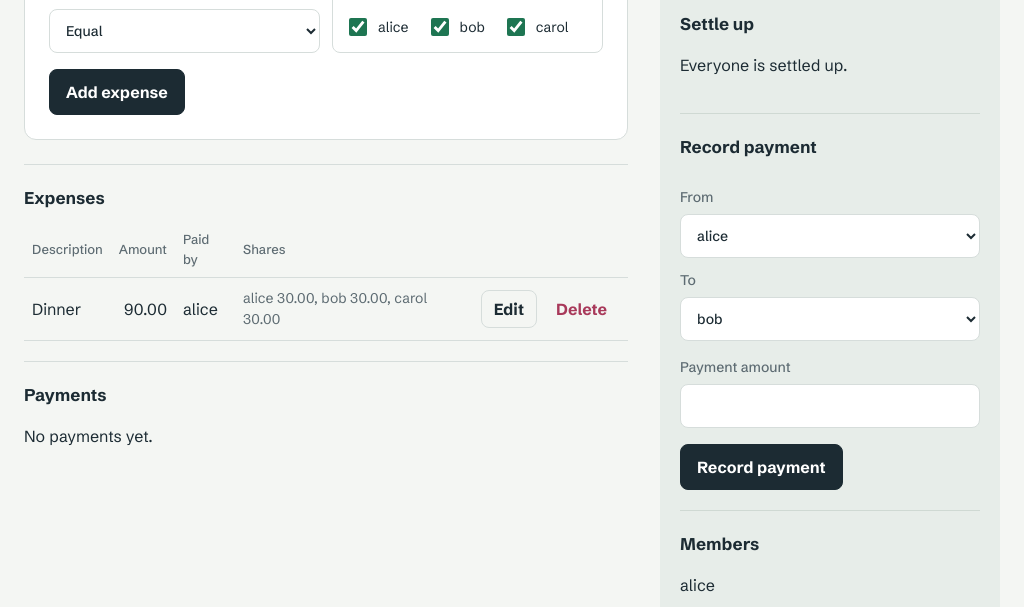
Test case: Expenses › edit loads the expense and sends PUT
(page scrolled)
Click the button "Edit". click: x=509, y=309
box: [481, 290, 537, 328]
(page scrolled)
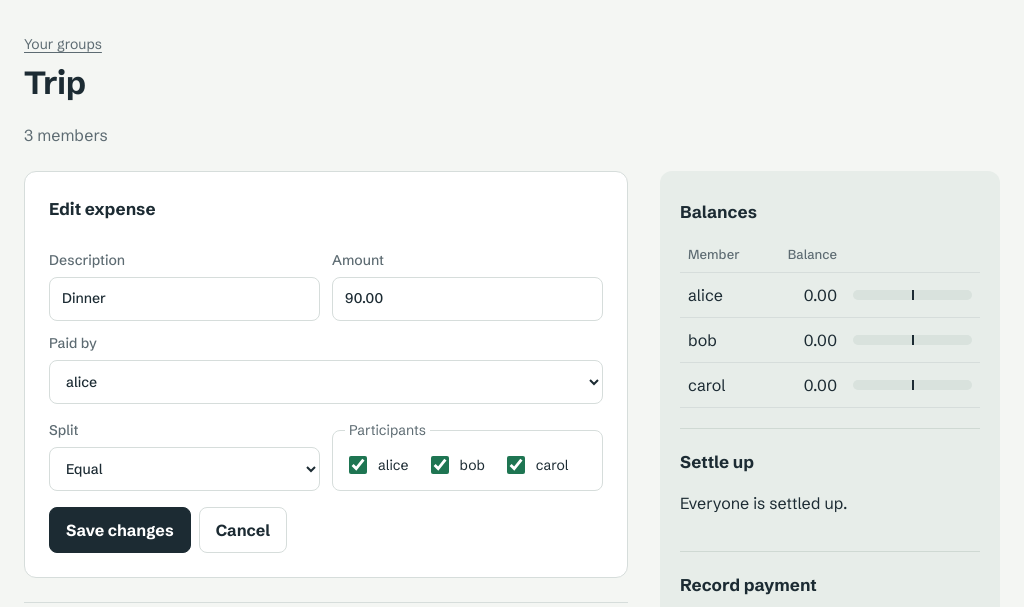
Now the heading "Edit expense" is shown, box [49, 198, 156, 219]
Now the field labelled "Description" holds "Dinner", box [49, 276, 320, 320]
Replace the text in the field labelled "Amount" with "99.00". click: x=468, y=298
box: [332, 276, 603, 320]
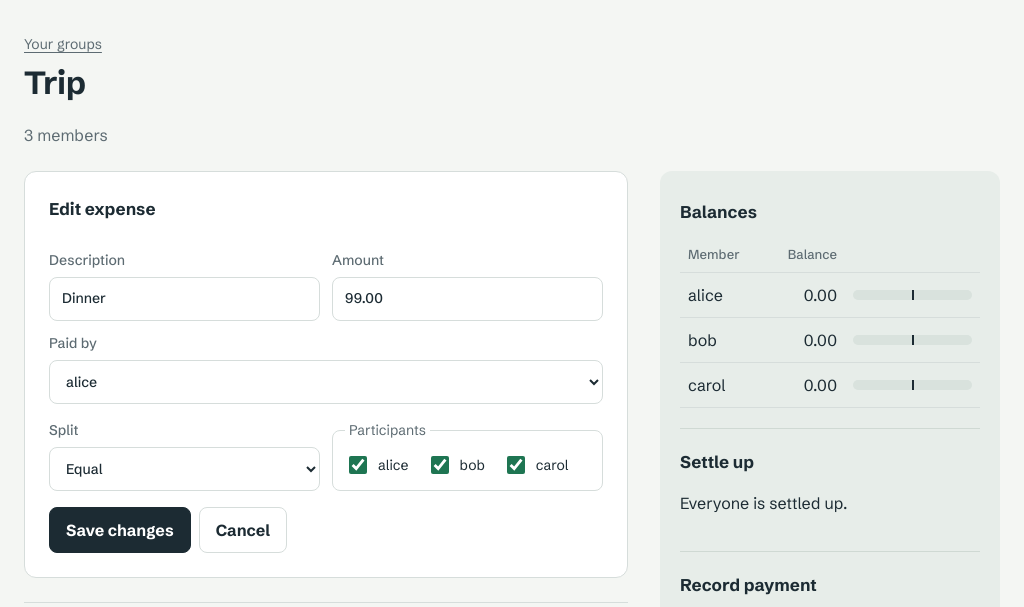
Click the button "Save changes". click: x=120, y=530
box: [49, 506, 191, 552]
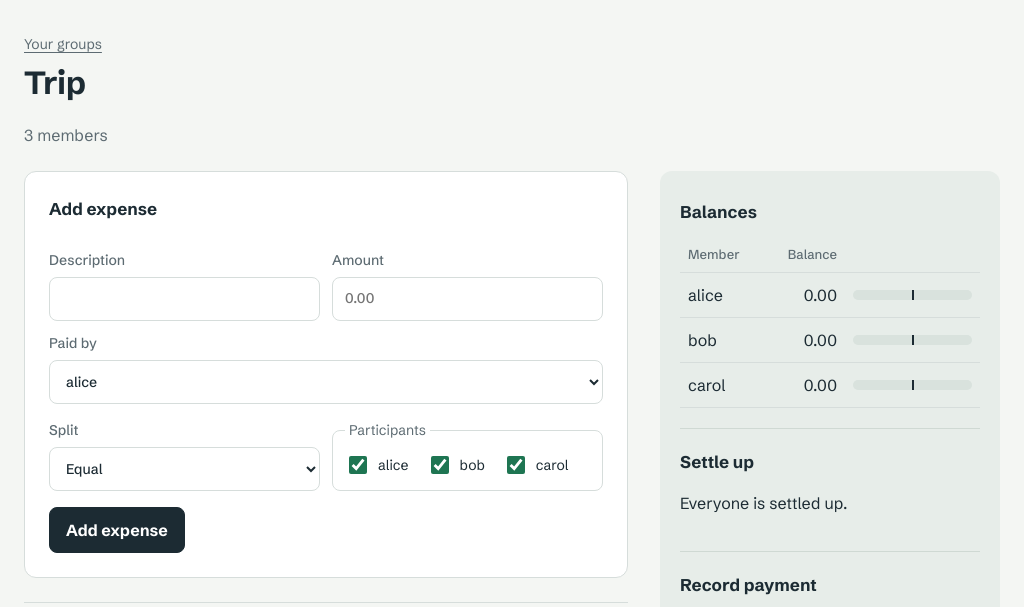
Now the heading "Add expense" is shown, box [49, 198, 157, 219]
